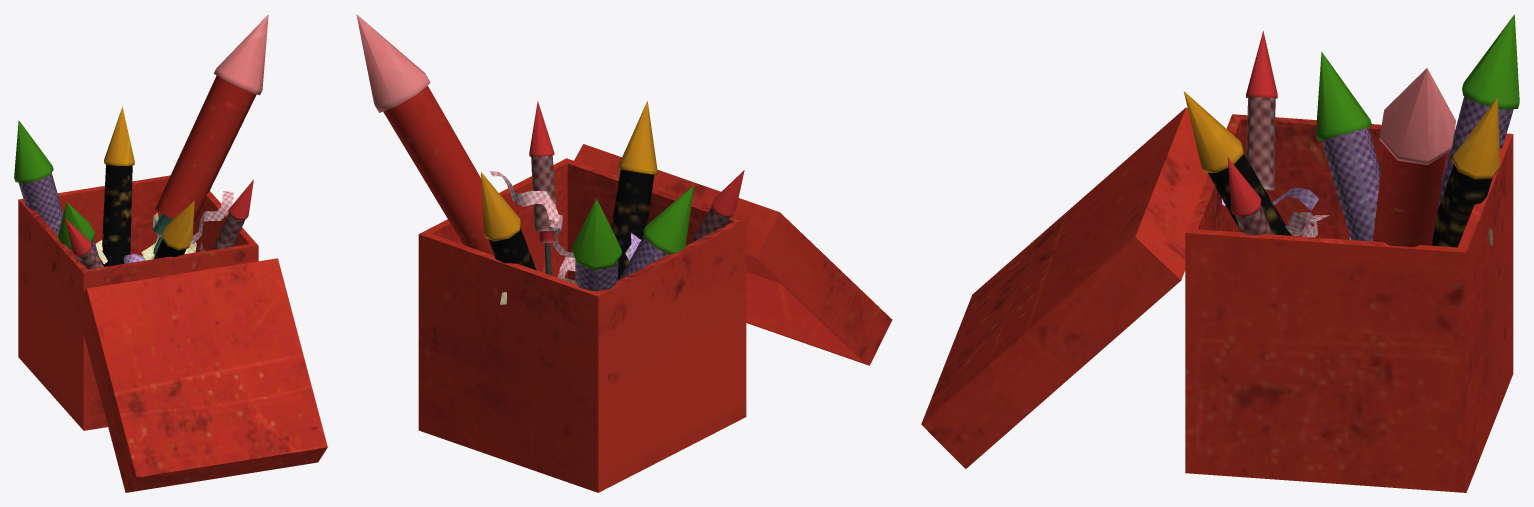
Rendered from Circus stuff 1.fbx.
3 views of the same model, side by side, from view 1: azimuth 30°, elevation 25°; view 2: azimuth 150°, elevation 25°; view 3: azimuth 270°, elevation 25° (orthographic). The views are drawn at different scales.
Parts seen in each view (by area): view 1: polySurface2521; view 2: polySurface2521; view 3: polySurface2521.
Part boxes in pixels (box(x1,y1,x2,y2)): polySurface2521: box(14, 14, 327, 492); polySurface2521: box(356, 14, 892, 492); polySurface2521: box(921, 14, 1519, 492).
Size of the model in its own units: 80.02 by 85.15 by 96.75.
